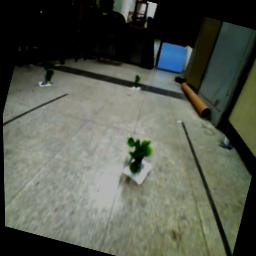herb: (119, 135, 156, 177), (40, 65, 55, 86)
